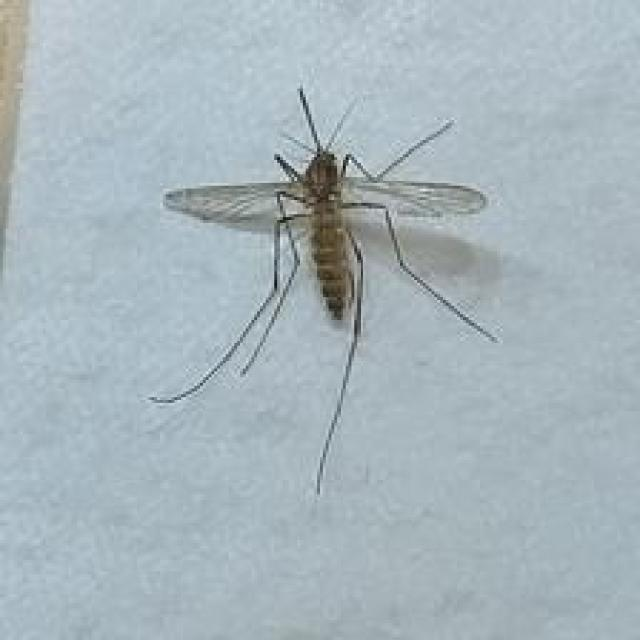Culex: (146, 83, 500, 497)
